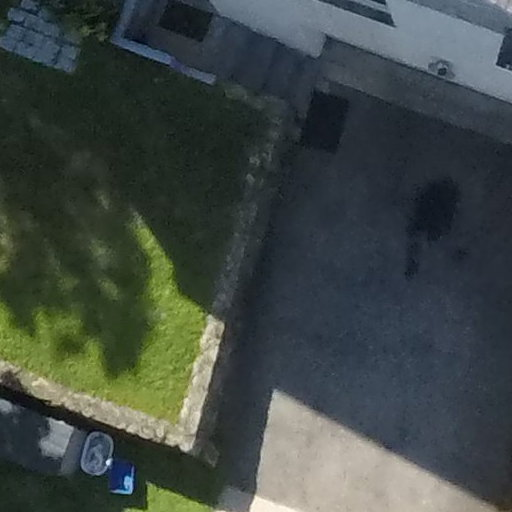container: (103, 452, 141, 496)
trash bin: (100, 455, 145, 497)
